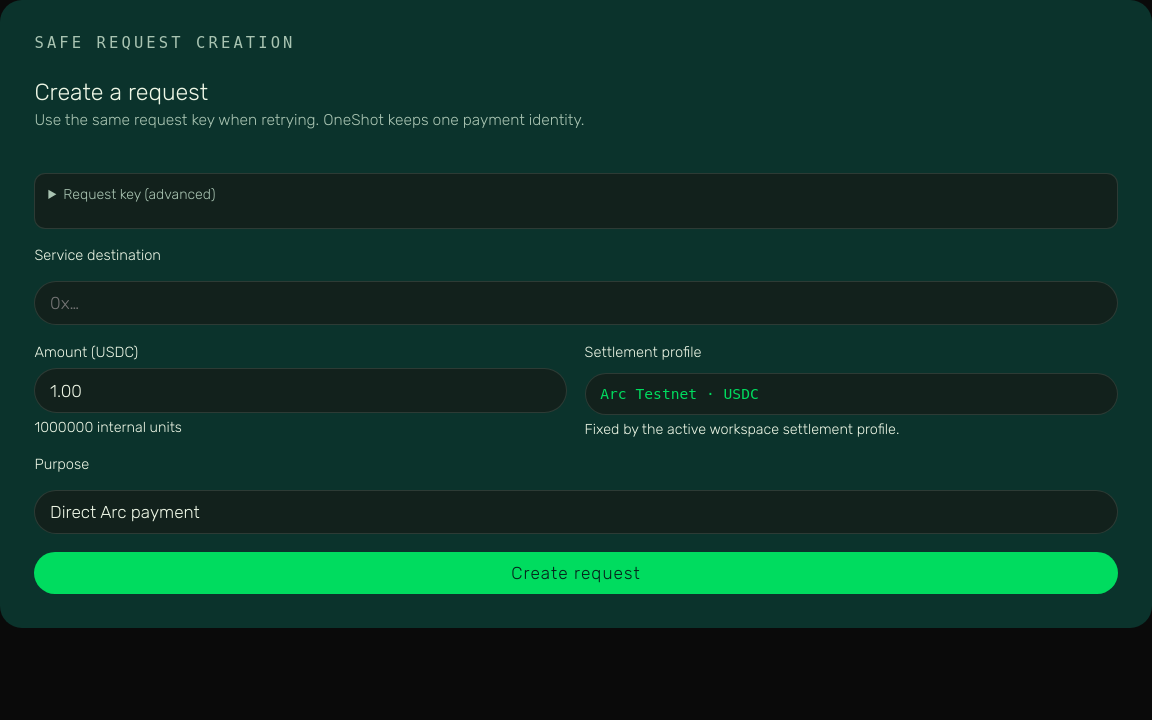
Test: IntentForm › names safe create failure 403 without offering a bypass
Type "0x1111111111111111111111111111111111111111" into the field labelled "Service destination".
click(576, 303); type("0x1111111111111111111111111111111111111111")  # box [34,281,1118,325]
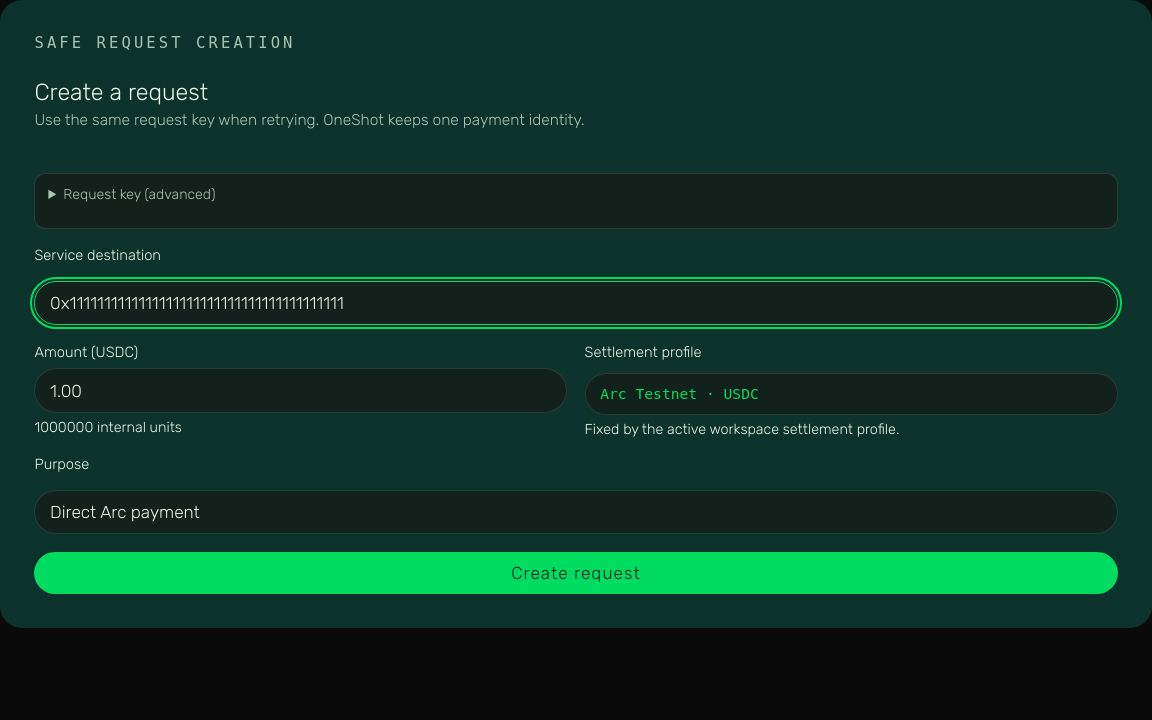
Click the button "Create request".
click(576, 573)  # box [34,552,1118,594]
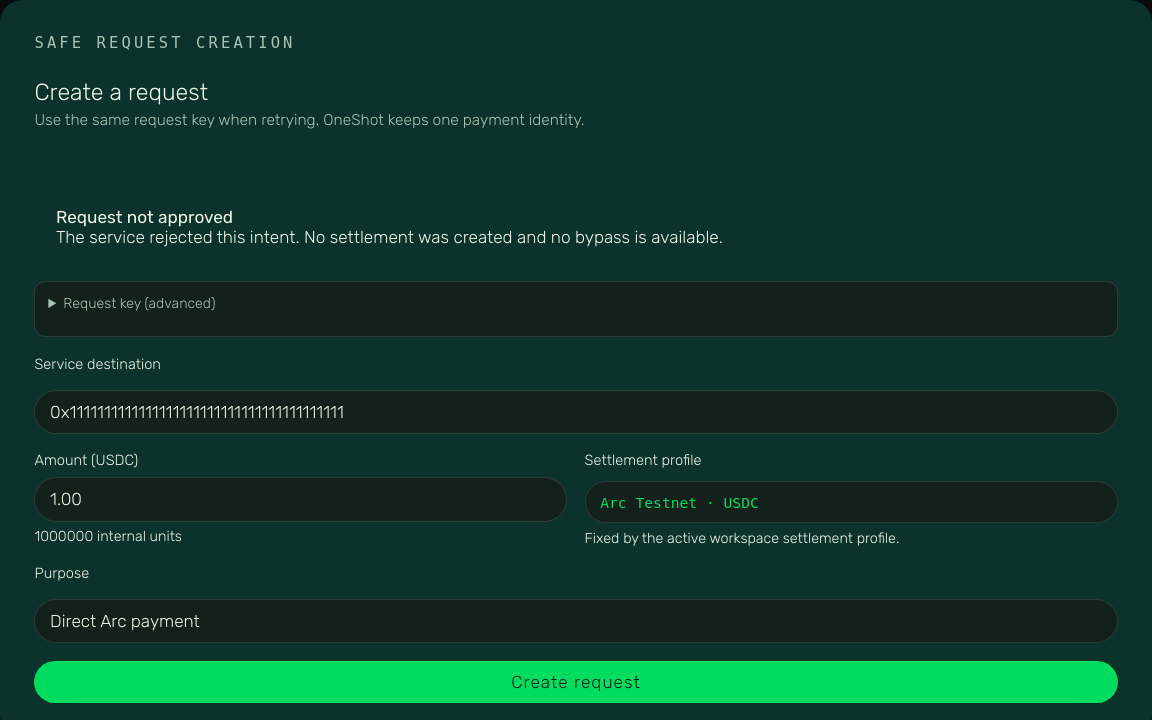
Now the text "Request not approved" is shown, box [56,207,233,227]
